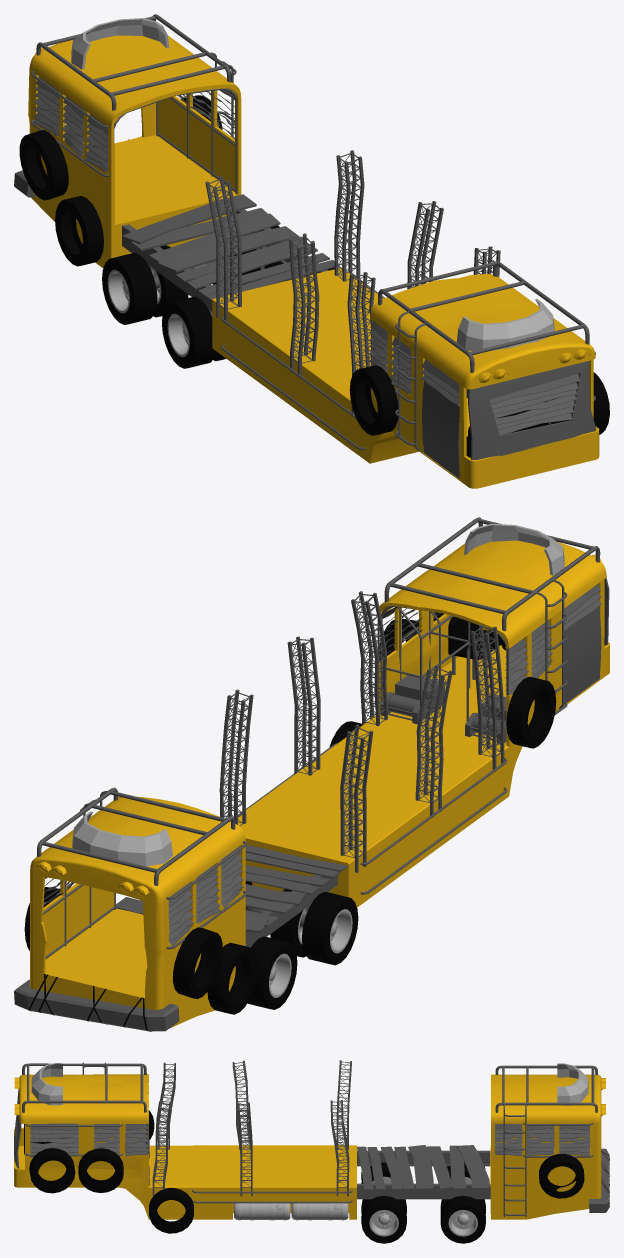
The model's file is Bus Trailer Final.fbx.
3 renders of one model, top to bottom at view 1: azimuth 30°, elevation 25°; view 2: azimuth 150°, elevation 25°; view 3: azimuth 270°, elevation 25°, orthographic. The views are drawn at different scales.
Parts seen in each view (by area): view 1: BusTrailerBaseMesh, Passenger_Side_Back_Wheel, Passenger_Side_Front_Wheel; view 2: BusTrailerBaseMesh, Passenger_Side_Front_Wheel, Passenger_Side_Back_Wheel; view 3: BusTrailerBaseMesh, Drivers_Side_Back_Wheel, Drivers_Side_Front_Wheel.
Part boxes in pixels (<box>): BusTrailerBaseMesh: <box>14,14,609,488</box>; Passenger_Side_Back_Wheel: <box>102,245,188,324</box>; Passenger_Side_Front_Wheel: <box>162,296,226,368</box>; BusTrailerBaseMesh: <box>14,517,609,1031</box>; Passenger_Side_Front_Wheel: <box>270,889,358,965</box>; Passenger_Side_Back_Wheel: <box>247,936,297,1009</box>; BusTrailerBaseMesh: <box>14,1060,609,1233</box>; Drivers_Side_Back_Wheel: <box>440,1195,485,1243</box>; Drivers_Side_Front_Wheel: <box>361,1195,406,1243</box>.
Size of the model in its own units: 3.8 by 4.6 by 17.29.
